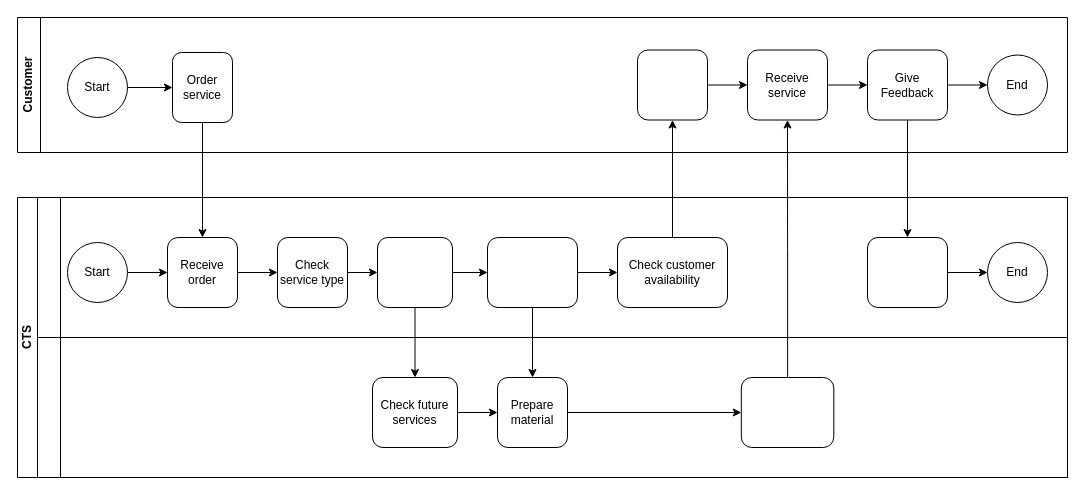
This 1085x495 diagram has some shape labels left out. Here are the shapes that lost their labels. From the top down, the box of each, then its label:
(636, 49, 708, 120): Confirm availability
(376, 236, 452, 308): Assign to employee
(486, 236, 578, 308): Get user and service data
(36, 196, 1068, 338): Management
(866, 236, 948, 308): Receive Feedback
(36, 336, 1068, 478): Server (Employee)
(740, 376, 834, 448): Execute service
